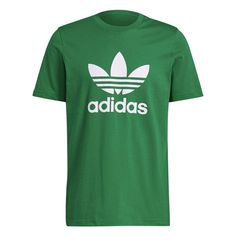adidas Originale: (80, 47, 157, 123)
